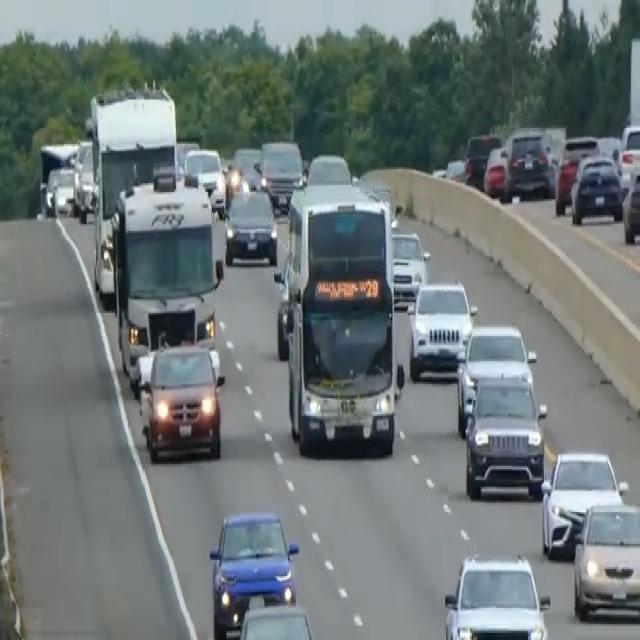bus: (281, 178, 403, 458), (110, 170, 224, 386)
car: (208, 507, 300, 638), (463, 366, 547, 500), (137, 338, 224, 462), (540, 446, 627, 558), (442, 550, 551, 638), (455, 322, 536, 436), (572, 496, 639, 620), (405, 278, 477, 380), (223, 185, 278, 267), (569, 151, 623, 226), (554, 134, 600, 214), (505, 128, 554, 199), (233, 599, 321, 638), (259, 137, 304, 211), (390, 228, 430, 306), (183, 146, 226, 215), (463, 130, 501, 188), (272, 254, 292, 359), (73, 140, 96, 222), (44, 163, 77, 217), (227, 144, 262, 194), (306, 149, 352, 185), (482, 142, 511, 199), (616, 121, 639, 187), (621, 169, 639, 243)
